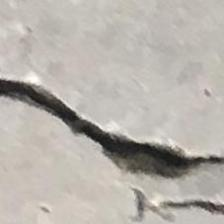Crack: (0, 65, 224, 224)
